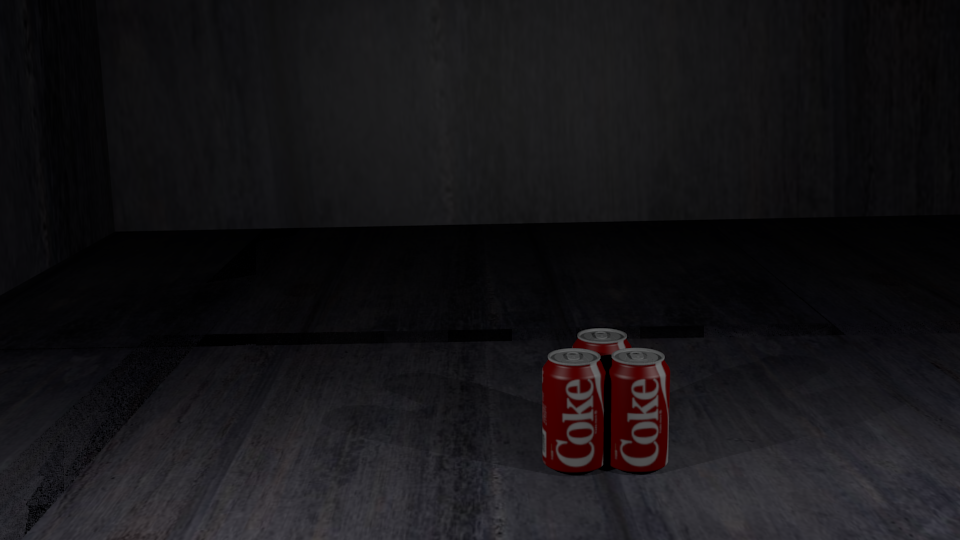cola_can: (542, 349, 605, 469), (606, 348, 669, 467), (573, 329, 631, 442)
